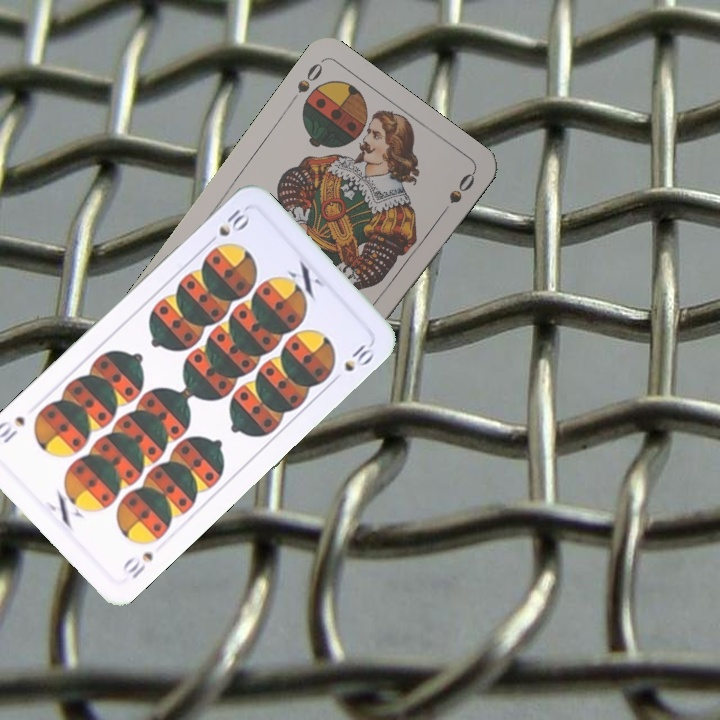S10: (202, 204, 252, 249), (119, 547, 156, 582)
SO: (292, 58, 326, 96)
